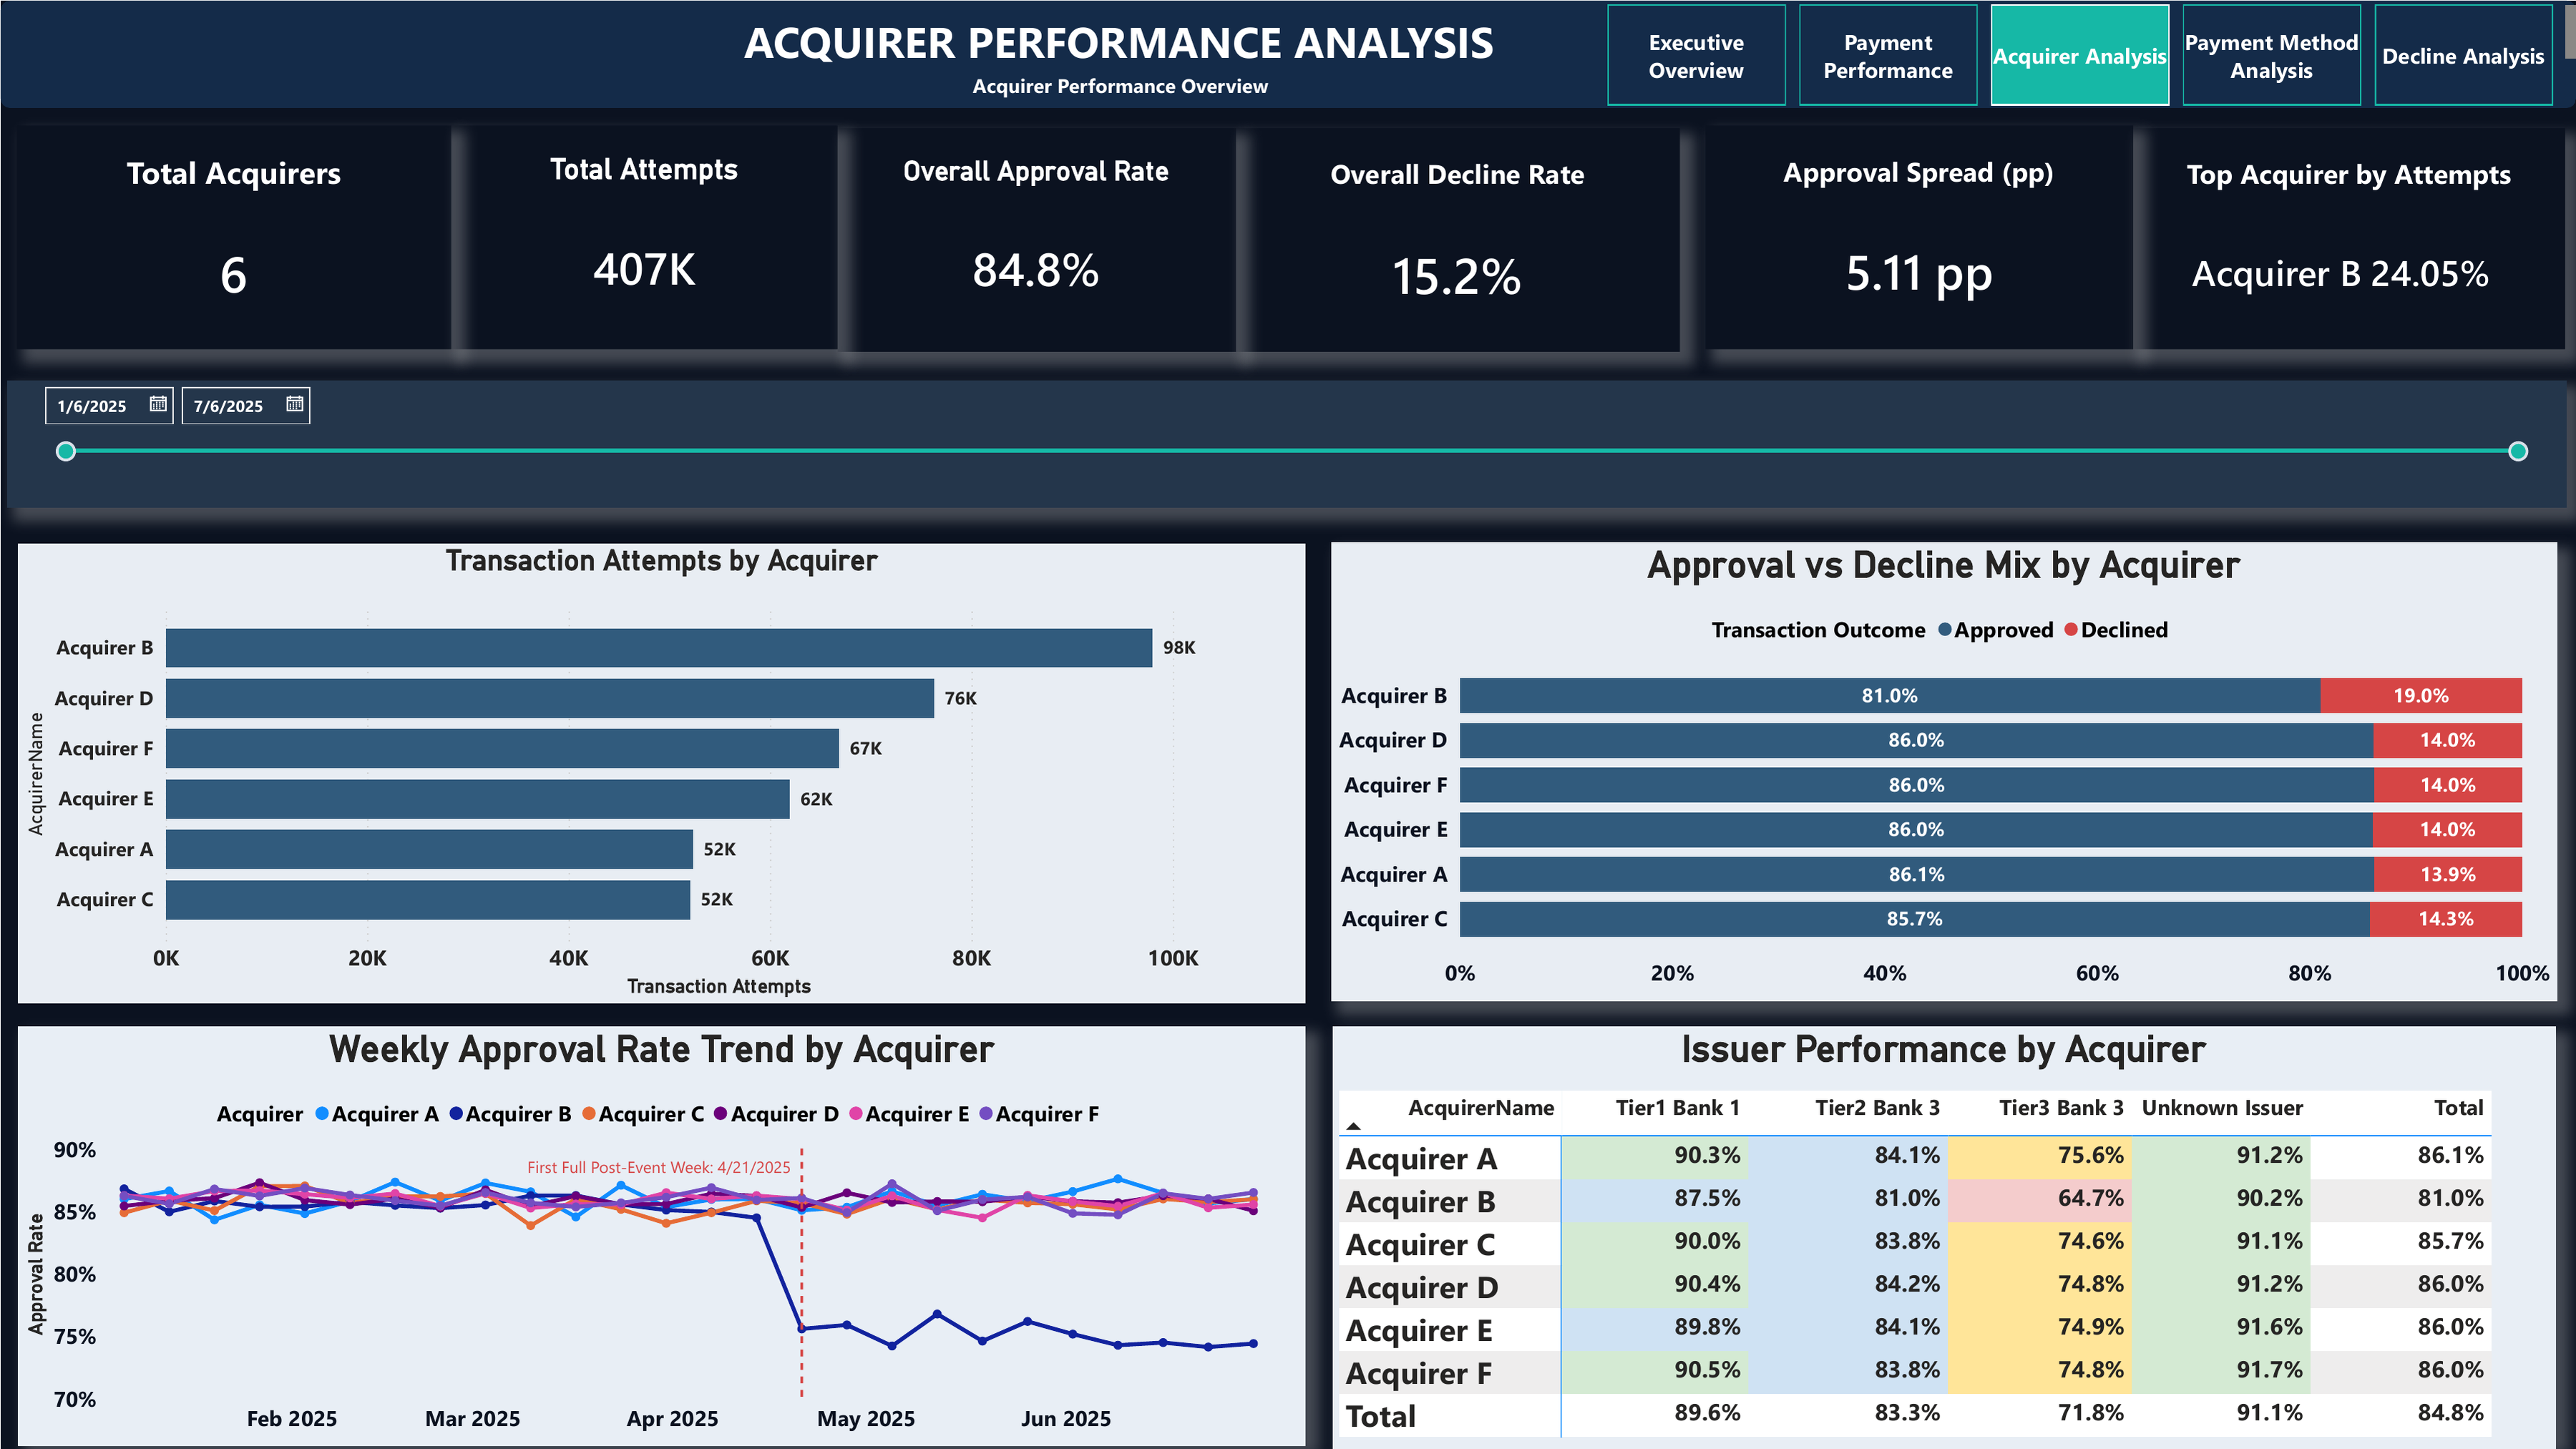

The dashboard page shown, as its layout file describes it:
{"tool":"powerbi","page":{"name":"Acquirer Analysis","canvas":[1920,1080],"ordinal":2},"visuals":[{"type":"shape","box":[0,0,1920,80],"z":0},{"type":"textbox","box":[480,2.5,707.5,60],"z":1000},{"type":"textbox","box":[640,47.5,390,35],"z":2000},{"type":"cardVisual","title":"Total Acquirers","fields":{"Data":["_Measures.Total Acquirers"]},"box":[11.9,92.9,323.8,166.7],"z":3000},{"type":"cardVisual","title":"Total Attempts","fields":{"Data":["_Measures.transaction count"]},"box":[335.7,92.9,288.1,166.7],"z":4000},{"type":"slicer","title":"Date Range","fields":{"Values":["DimDate.FullDate"]},"box":[5,282.5,1907.5,95],"z":5000},{"type":"cardVisual","title":"Overall Decline Rate","fields":{"Data":["_Measures.Decline Rate - All Attempts"]},"box":[921.4,95.2,331,166.7],"z":6000},{"type":"cardVisual","title":"Approval Spread (pp)","fields":{"Data":["_Measures.Acquirer Approval Rate Spread"]},"box":[1271.4,92.9,319,166.7],"z":7000},{"type":"cardVisual","title":"Overall Approval Rate","fields":{"Data":["_Measures.Approval Rate - All Attempts"]},"box":[623.8,95.2,297.6,166.7],"z":8000},{"type":"hundredPercentStackedBarChart","title":"\tApproval vs Decline Mix by Acquirer","fields":{"Category":["DimAcquirer.AcquirerName"],"Series":["FactTransactions.TransactionStatus"],"Y":["_Measures.transaction count"]},"box":[992,404,914,342],"z":9000},{"type":"pivotTable","title":"Issuer Performance by Acquirer","fields":{"Columns":["FactTransactions.Issuer Display"],"Rows":["DimAcquirer.AcquirerName"],"Values":["_Measures.Approval Rate - All Attempts"]},"box":[992.5,765,912.5,315],"z":10000},{"type":"pageNavigator","box":[1197.5,2.5,722.5,80],"z":11000},{"type":"clusteredBarChart","title":"Transaction Attempts by Acquirer","fields":{"Category":["DimAcquirer.AcquirerName"],"Y":["_Measures.transaction count"]},"box":[12.5,405,960,343.3],"z":12000},{"type":"lineChart","title":"Weekly Approval Rate Trend by Acquirer","fields":{"Category":["DimDate.Week Start Date"],"Series":["DimAcquirer.AcquirerName"],"Y":["_Measures.Approval Rate - All Attempts"]},"box":[12.5,765,960,313.3],"z":13000},{"type":"cardVisual","title":"Top Acquirer by Attempts","fields":{"Data":["_Measures.Top Acquirer Card"]},"box":[1590.5,95.2,321.4,164.3],"z":14000}]}

Visuals, with their boxes in screenshot pixels (x1, y1, x2, y2), scaled from the page's 1920x1080 canvas onto the 2576x1449 screenshot:
shape: x1=0 y1=0 x2=2575 y2=107
textbox: x1=644 y1=4 x2=1594 y2=84
textbox: x1=859 y1=64 x2=1382 y2=111
"Total Acquirers" cardVisual: x1=16 y1=125 x2=450 y2=348
"Total Attempts" cardVisual: x1=450 y1=125 x2=837 y2=348
"Date Range" slicer: x1=6 y1=379 x2=2566 y2=507
"Overall Decline Rate" cardVisual: x1=1236 y1=127 x2=1680 y2=351
"Approval Spread (pp)" cardVisual: x1=1706 y1=125 x2=2134 y2=348
"Overall Approval Rate" cardVisual: x1=837 y1=127 x2=1236 y2=351
"	Approval vs Decline Mix by Acquirer" hundredPercentStackedBarChart: x1=1331 y1=542 x2=2557 y2=1001
"Issuer Performance by Acquirer" pivotTable: x1=1332 y1=1026 x2=2556 y2=1448
pageNavigator: x1=1606 y1=4 x2=2575 y2=111
"Transaction Attempts by Acquirer" clusteredBarChart: x1=16 y1=543 x2=1304 y2=1004
"Weekly Approval Rate Trend by Acquirer" lineChart: x1=16 y1=1026 x2=1304 y2=1447
"Top Acquirer by Attempts" cardVisual: x1=2134 y1=127 x2=2565 y2=348
